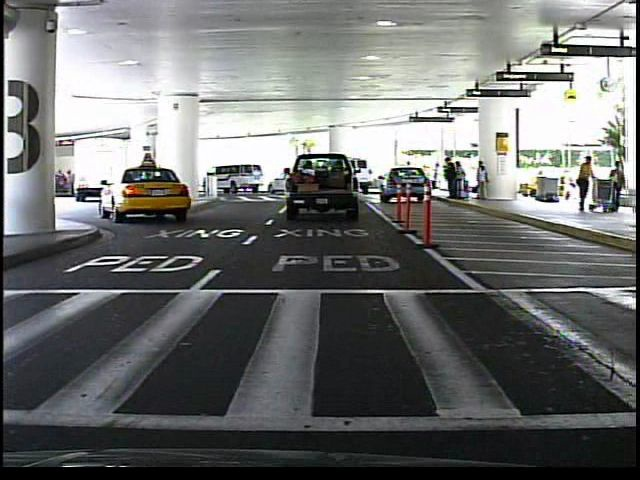person: (573, 153, 598, 216), (608, 157, 629, 214), (403, 158, 418, 193)
